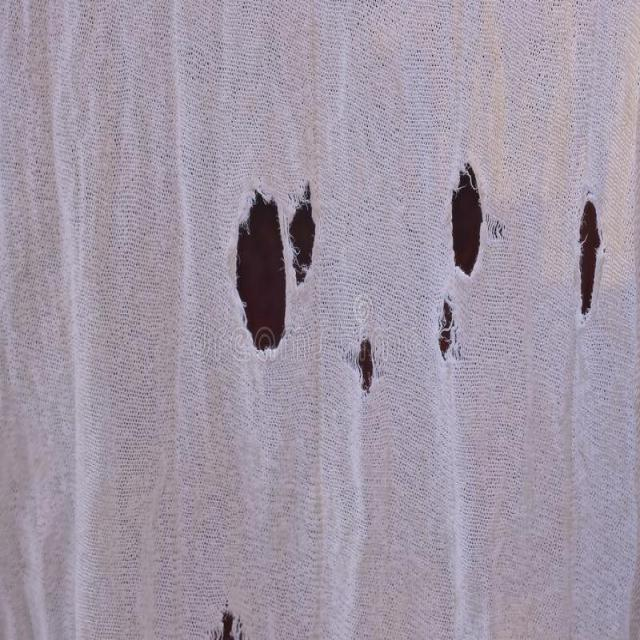Hole: (236, 191, 286, 351), (453, 164, 484, 274), (289, 184, 316, 284), (580, 201, 602, 314), (439, 298, 458, 360), (358, 339, 374, 392), (213, 612, 243, 640)
